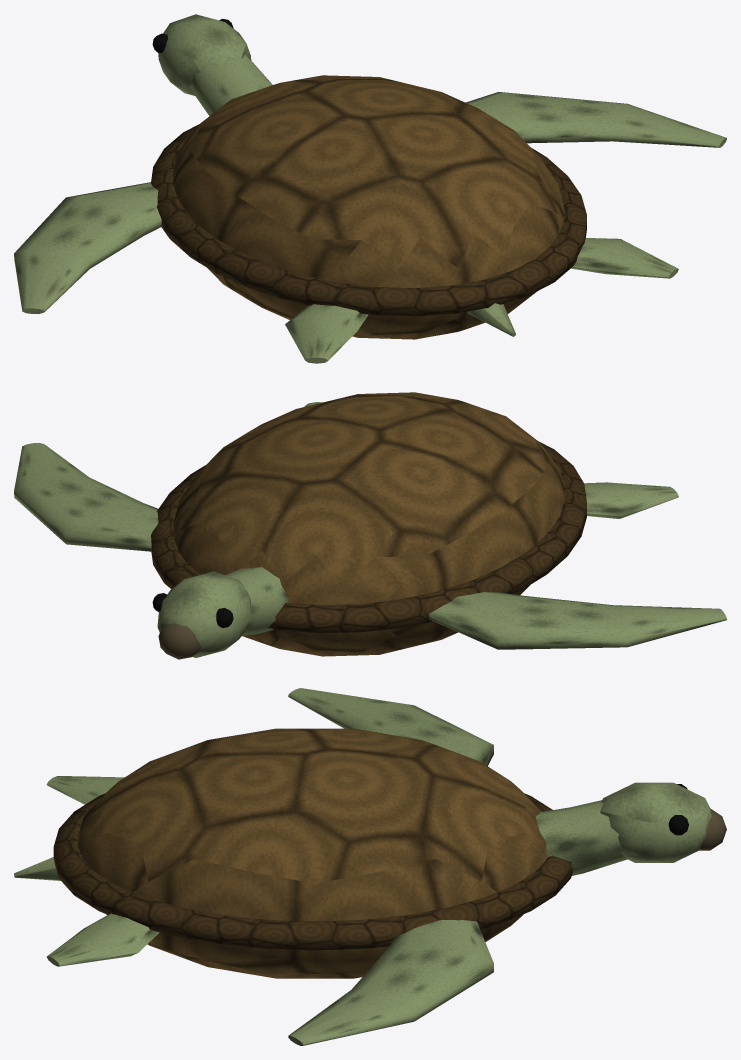
The model's file is turtle.glb.
The picture shows the model from 3 angles, top to bottom: view 1: azimuth 30°, elevation 25°; view 2: azimuth 150°, elevation 25°; view 3: azimuth 270°, elevation 25°; orthographic projection. The views are drawn at different scales.
Visible parts, largest first — view 1: Shell, FlipperFL, FlipperFR, Head, FlipperBL, FlipperBR; view 2: Shell, FlipperFL, FlipperFR, Head, FlipperBL; view 3: Shell, FlipperFR, Head, FlipperFL, FlipperBR, FlipperBL.
Part boxes in pixels (<box>): Shell: <box>151,75,586,339</box>; FlipperFL: <box>14,182,161,313</box>; FlipperFR: <box>466,92,726,147</box>; Head: <box>152,14,272,115</box>; FlipperBL: <box>285,304,368,363</box>; FlipperBR: <box>571,238,678,278</box>; Shell: <box>151,392,586,656</box>; FlipperFL: <box>429,592,726,649</box>; FlipperFR: <box>14,443,158,551</box>; Head: <box>152,567,288,659</box>; FlipperBL: <box>584,482,678,518</box>; Shell: <box>14,728,572,978</box>; FlipperFR: <box>288,920,493,1045</box>; Head: <box>535,782,726,875</box>; FlipperFL: <box>288,688,493,765</box>; FlipperBR: <box>46,913,159,966</box>; FlipperBL: <box>46,776,124,804</box>.
Size of the model in its own units: 1.74 by 0.44 by 1.47.
Materials: 6 (3 with a texture image).
